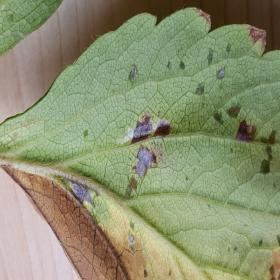Angular Leafspot: (0, 8, 279, 279)
